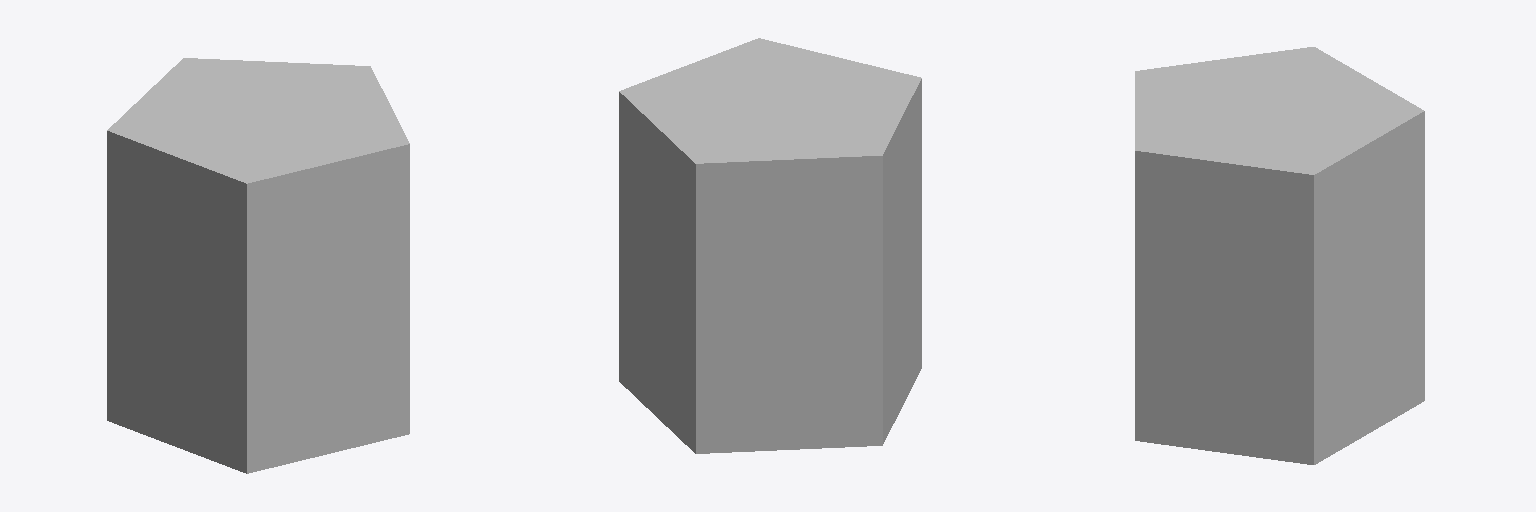
File: gem.obj
3 views of the same model, side by side, from view 1: azimuth 30°, elevation 25°; view 2: azimuth 150°, elevation 25°; view 3: azimuth 270°, elevation 25° (orthographic).
Parts seen in each view (by area): view 1: Cylinder_Cylinder.002; view 2: Cylinder_Cylinder.002; view 3: Cylinder_Cylinder.002.
Part boxes in pixels (left/top/right/bottom): Cylinder_Cylinder.002: left=107, top=58, right=409, bottom=473; Cylinder_Cylinder.002: left=619, top=38, right=921, bottom=453; Cylinder_Cylinder.002: left=1135, top=47, right=1424, bottom=464.
Size of the model in its own units: 0.9511 by 1 by 0.9045.